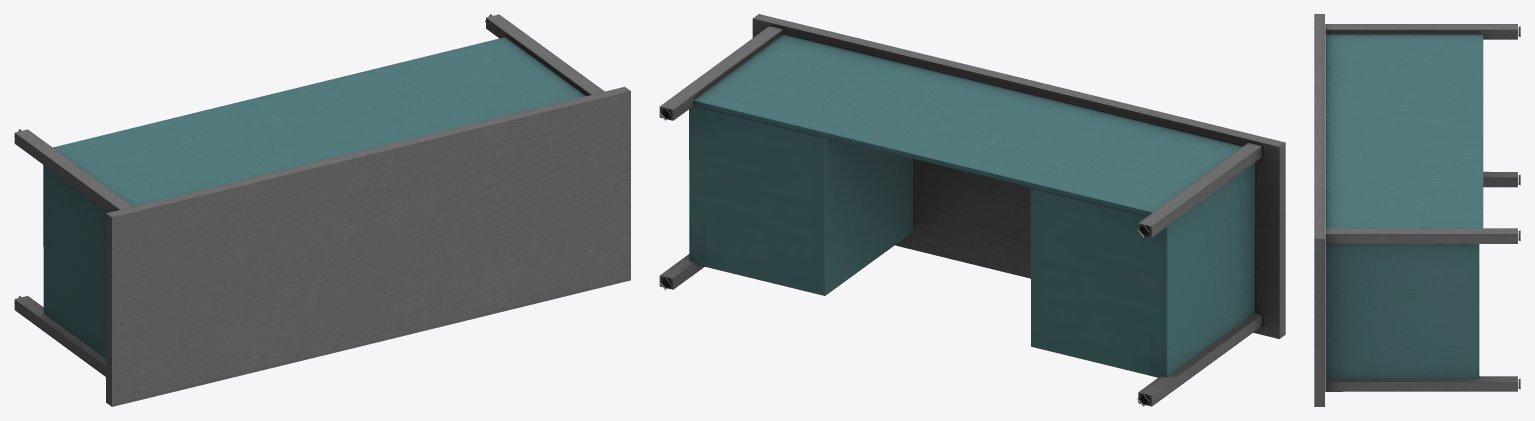
The model's file is nt_2020_desk_LOD2.obj.
3 renders of one model, left to right at view 1: azimuth 30°, elevation 25°; view 2: azimuth 150°, elevation 25°; view 3: azimuth 270°, elevation 25°, orthographic. The views are drawn at different scales.
Visible parts, largest first — view 1: mtl_nt_2020_desk; view 2: mtl_nt_2020_desk; view 3: mtl_nt_2020_desk.
Part boxes in pixels (x1,y1,x2,y2): mtl_nt_2020_desk: (14, 14, 630, 406); mtl_nt_2020_desk: (659, 14, 1285, 406); mtl_nt_2020_desk: (1314, 14, 1520, 406).
Size of the model in its own units: 232 by 80.98 by 90.1.
